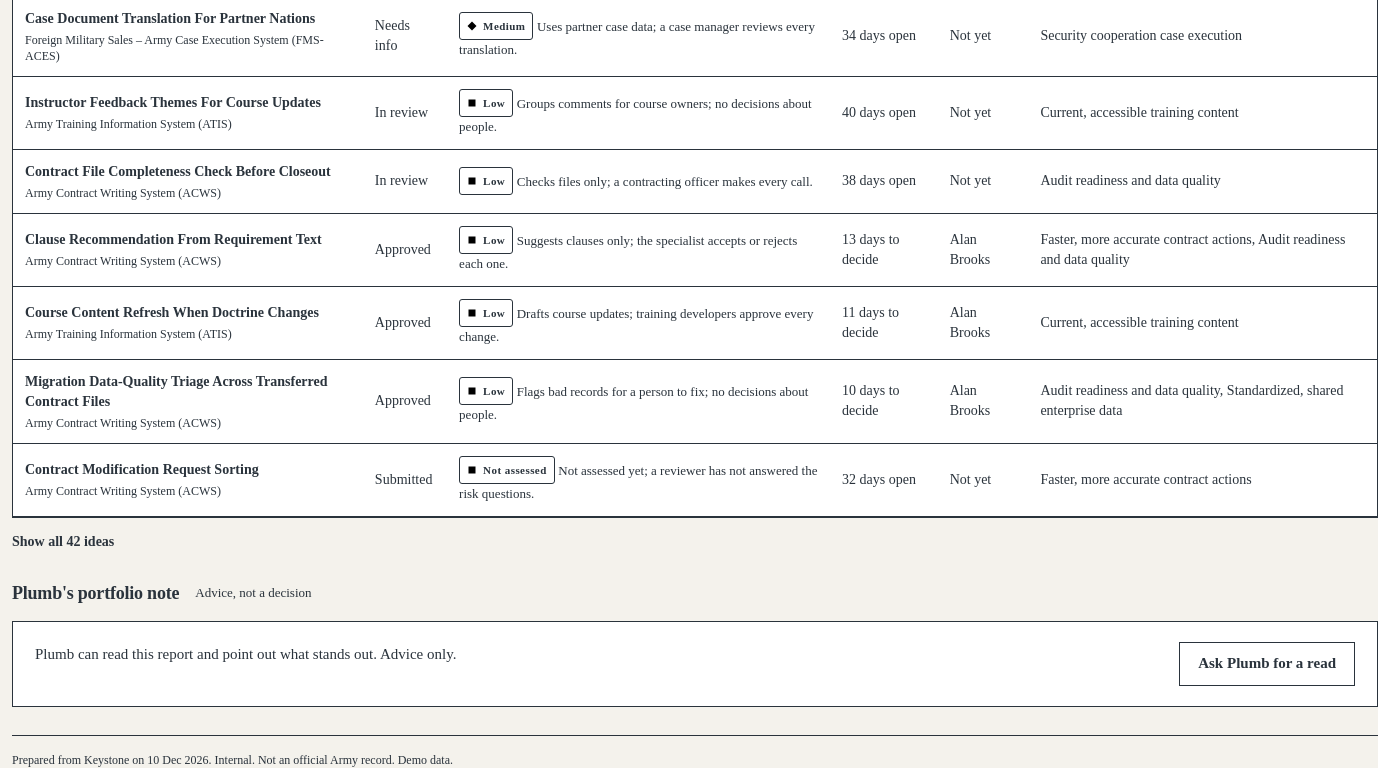
Scenario: Plumb's read on /report is written on a button press › while waiting the button is disabled, reads Reading the report, and a second press makes no call
Later steps or results of the test are not shown.
(page scrolled)
Click the button "Ask Plumb for a read" at (1267, 664), box top-left (1179, 642), bottom-right (1355, 686)
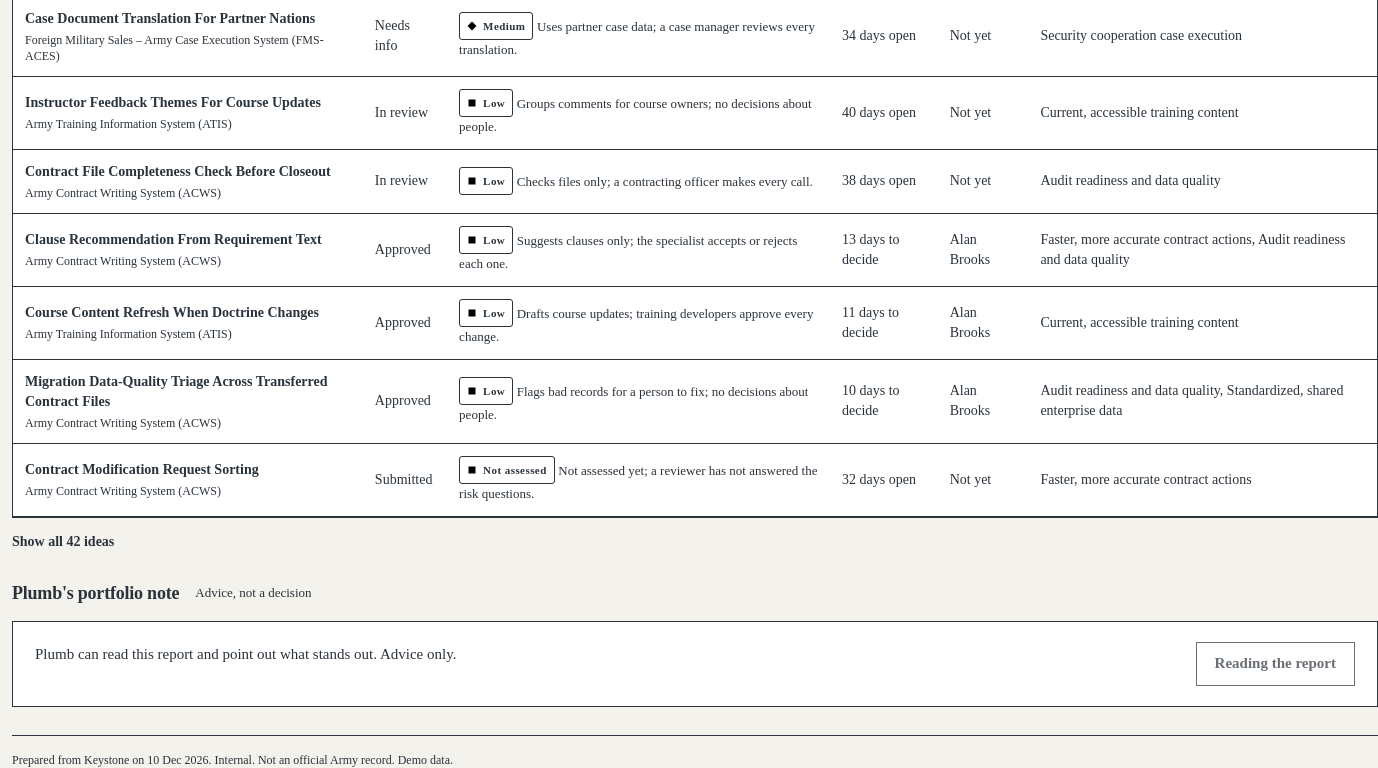
Result: the button "Reading the report" is disabled at top-left (1196, 642), bottom-right (1355, 686)
